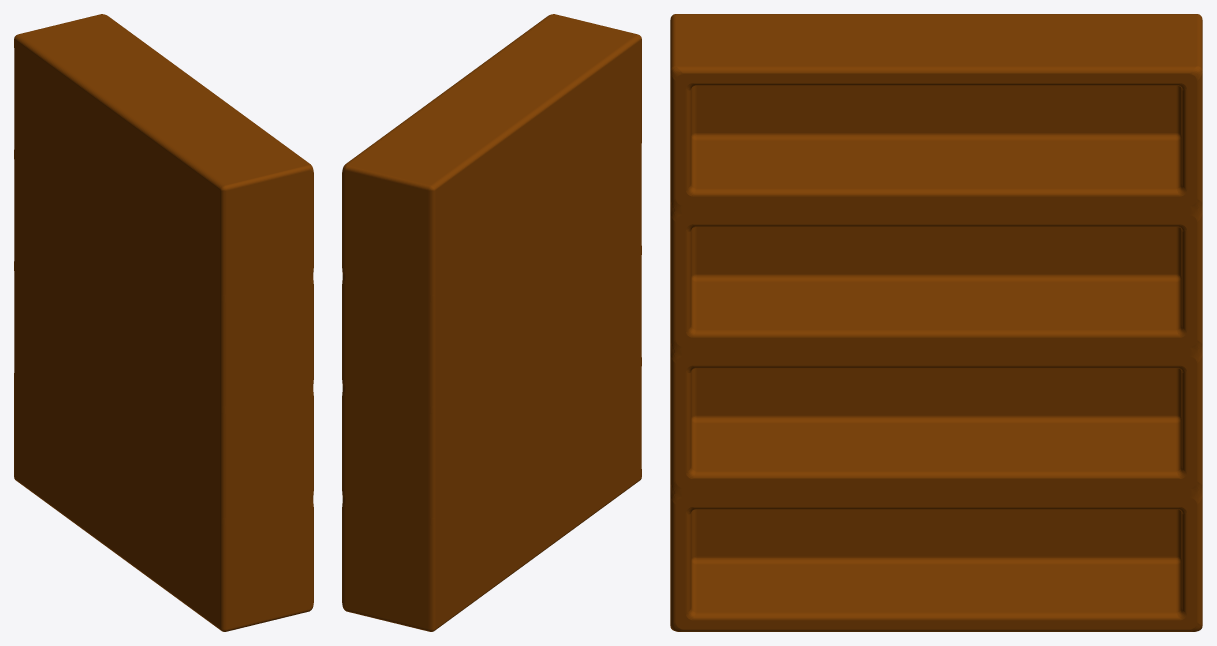
Rendered from Estanteria.fbx.
The picture shows the model from 3 angles, left to right: view 1: azimuth 30°, elevation 25°; view 2: azimuth 150°, elevation 25°; view 3: azimuth 270°, elevation 25°; orthographic projection. The views are drawn at different scales.
Parts seen in each view (by area): view 1: Cube; view 2: Cube; view 3: Cube.
Part boxes in pixels (left/top/right/bottom): Cube: left=14, top=14, right=313, bottom=631; Cube: left=342, top=14, right=641, bottom=631; Cube: left=670, top=14, right=1202, bottom=631.
Bounding box in the file's own units: 75.59 × 347 × 296.
